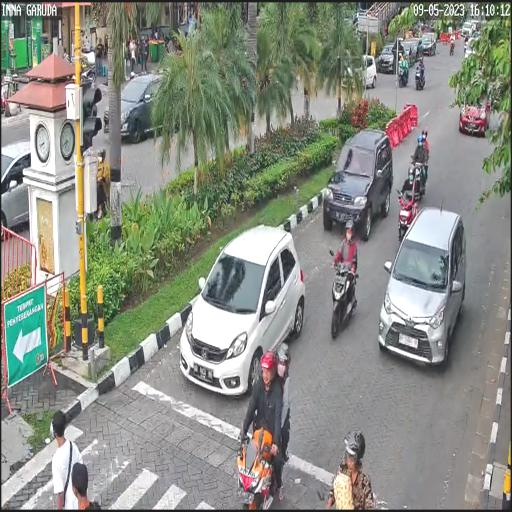mobil: (175, 223, 312, 403), (376, 206, 468, 372), (324, 127, 392, 239)
motor: (228, 407, 296, 512), (330, 238, 366, 346), (397, 178, 417, 242), (410, 147, 432, 204)
